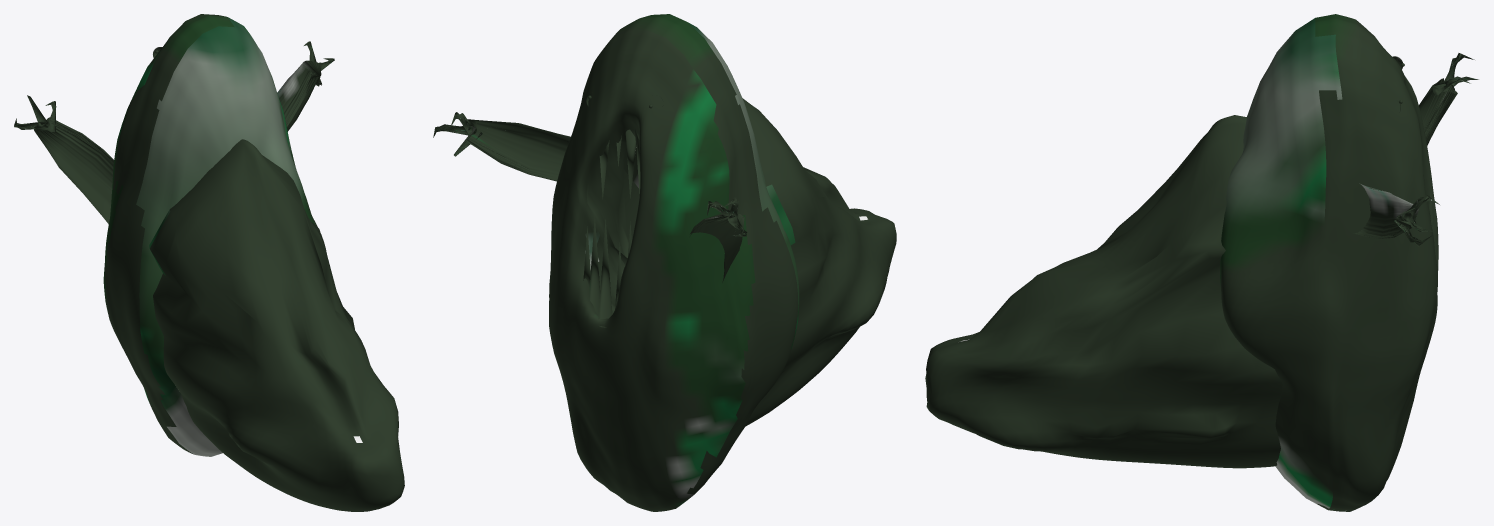
The model's file is Monster.fbx.
3 views of the same model, side by side, from view 1: azimuth 30°, elevation 25°; view 2: azimuth 150°, elevation 25°; view 3: azimuth 270°, elevation 25° (orthographic). The views are drawn at different scales.
Parts seen in each view (by area): view 1: Sphere.001; view 2: Sphere.001; view 3: Sphere.001.
Part boxes in pixels (x1=…): Sphere.001: x1=14, y1=14, x2=404, y2=511; Sphere.001: x1=433, y1=14, x2=896, y2=511; Sphere.001: x1=925, y1=14, x2=1478, y2=511.
Bounding box in the file's own units: 343 × 479 × 493.
